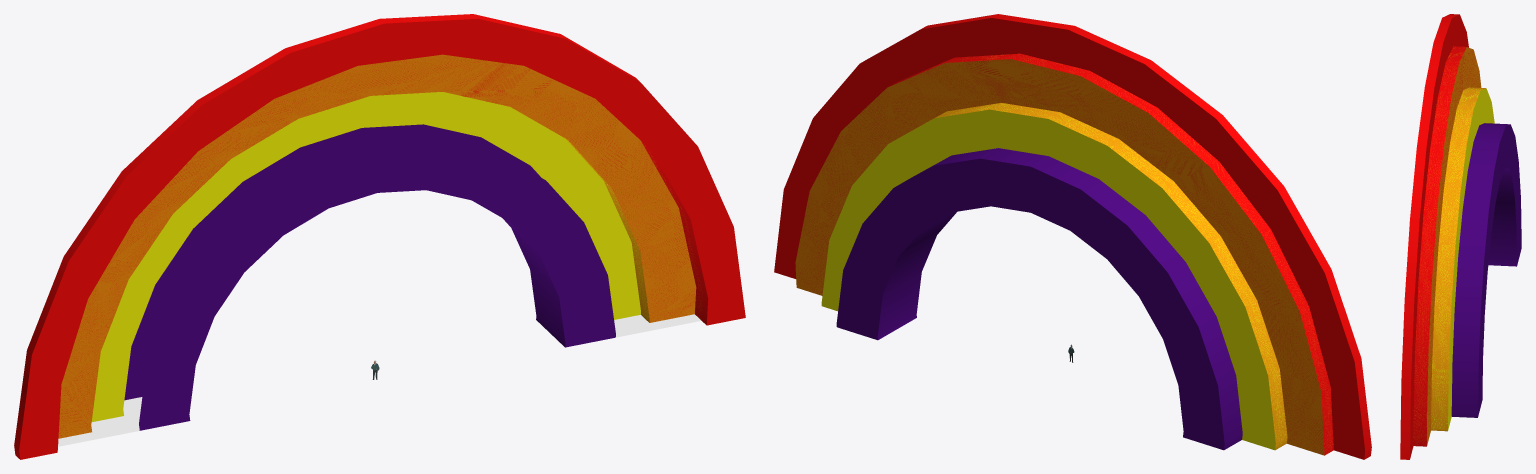
File: rainbow.dae
3 views of the same model, side by side, from view 1: azimuth 30°, elevation 25°; view 2: azimuth 150°, elevation 25°; view 3: azimuth 270°, elevation 25° (orthographic). The views are drawn at different scales.
Parts seen in each view (by area): view 1: SketchUp (×8); view 2: SketchUp (×6); view 3: SketchUp (×6).
Part boxes in pixels (x1,y1,x2,y2): SketchUp (×8): (14,14,745,459); SketchUp (×6): (774,14,1371,459); SketchUp (×6): (1400,14,1521,459).
Size of the model in its own units: 2478 by 482 by 1272.
